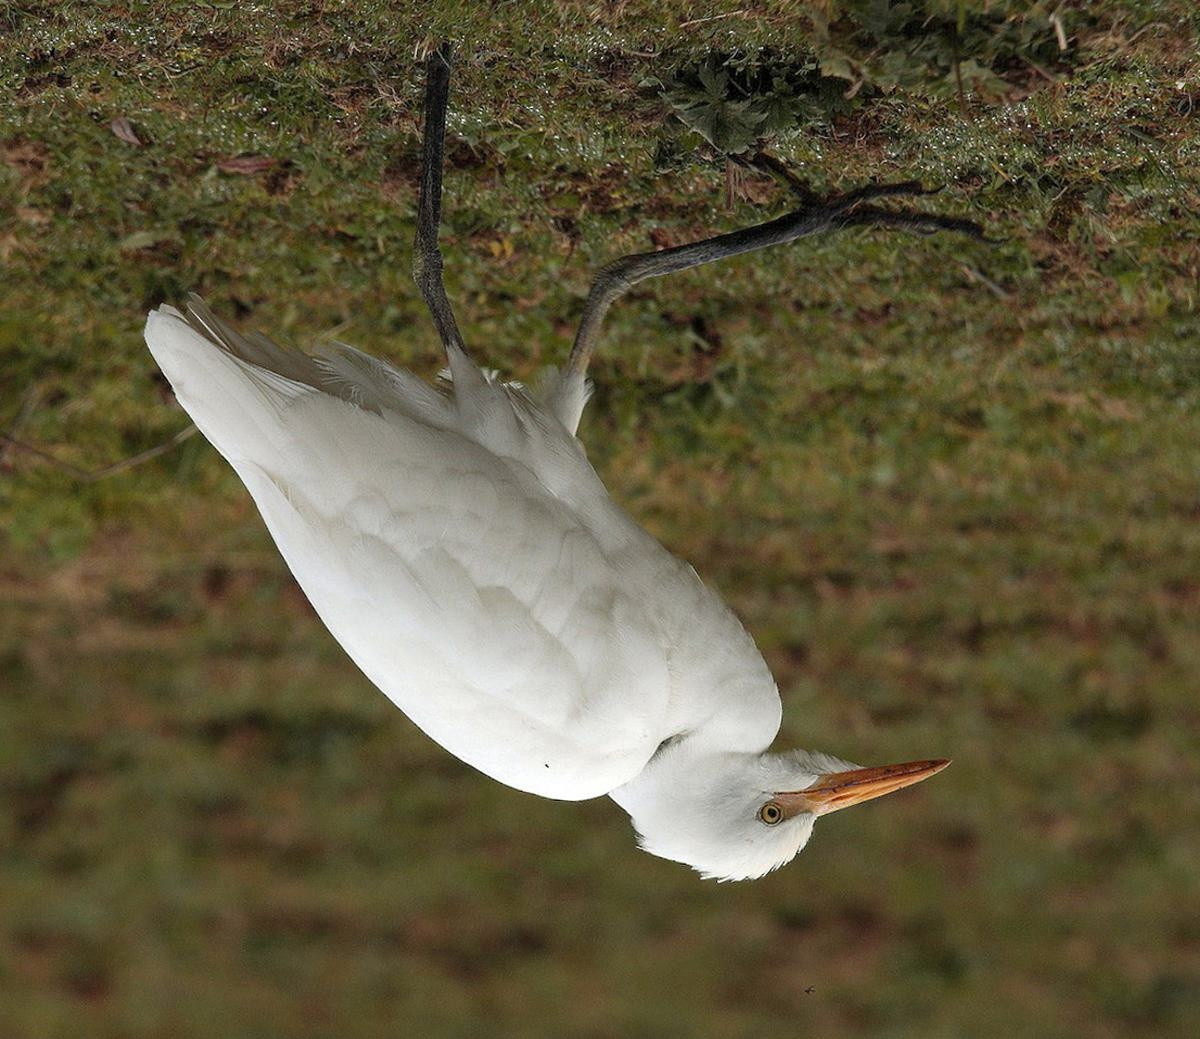egret: (138, 73, 971, 897)
